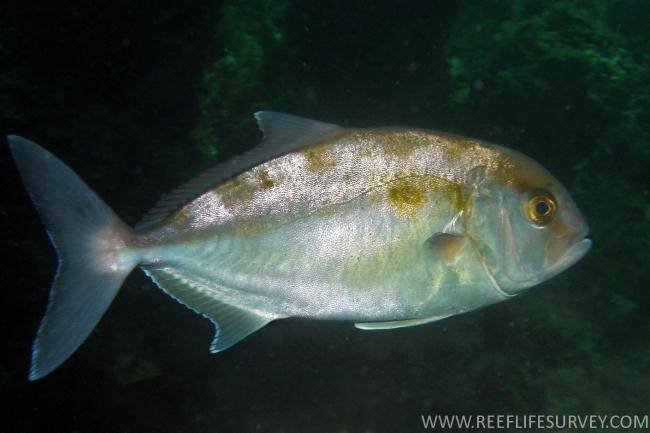fish: (8, 110, 592, 382)
